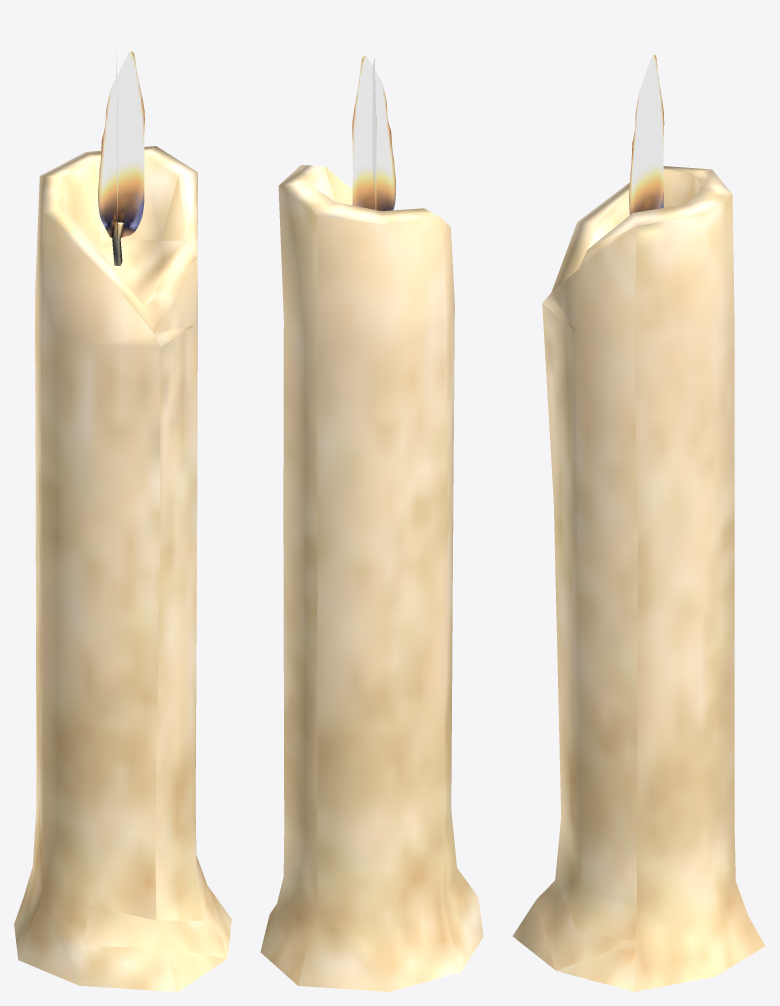
File: CandleShapeA.001.glb
3 renders of one model, left to right at view 1: azimuth 30°, elevation 25°; view 2: azimuth 150°, elevation 25°; view 3: azimuth 270°, elevation 25°, orthographic.
Parts seen in each view (by area): view 1: CandleShapeA.001; view 2: CandleShapeA.001; view 3: CandleShapeA.001.
Boxes of the visible parts, x1,y1,x2,y2 form: CandleShapeA.001: (14,51,231,991); CandleShapeA.001: (260,56,483,991); CandleShapeA.001: (512,54,764,991).
Bounding box in the file's own units: 0.0814 × 0.3472 × 0.0887.
2 materials, 2 textured.
